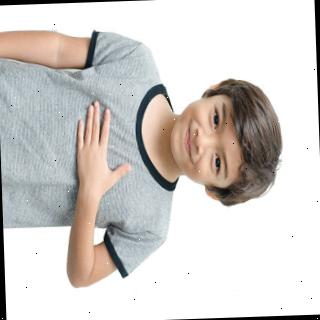Please: (67, 100, 131, 199)
